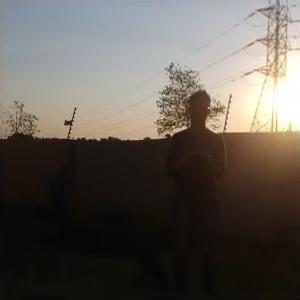follow: (161, 84, 229, 292)
